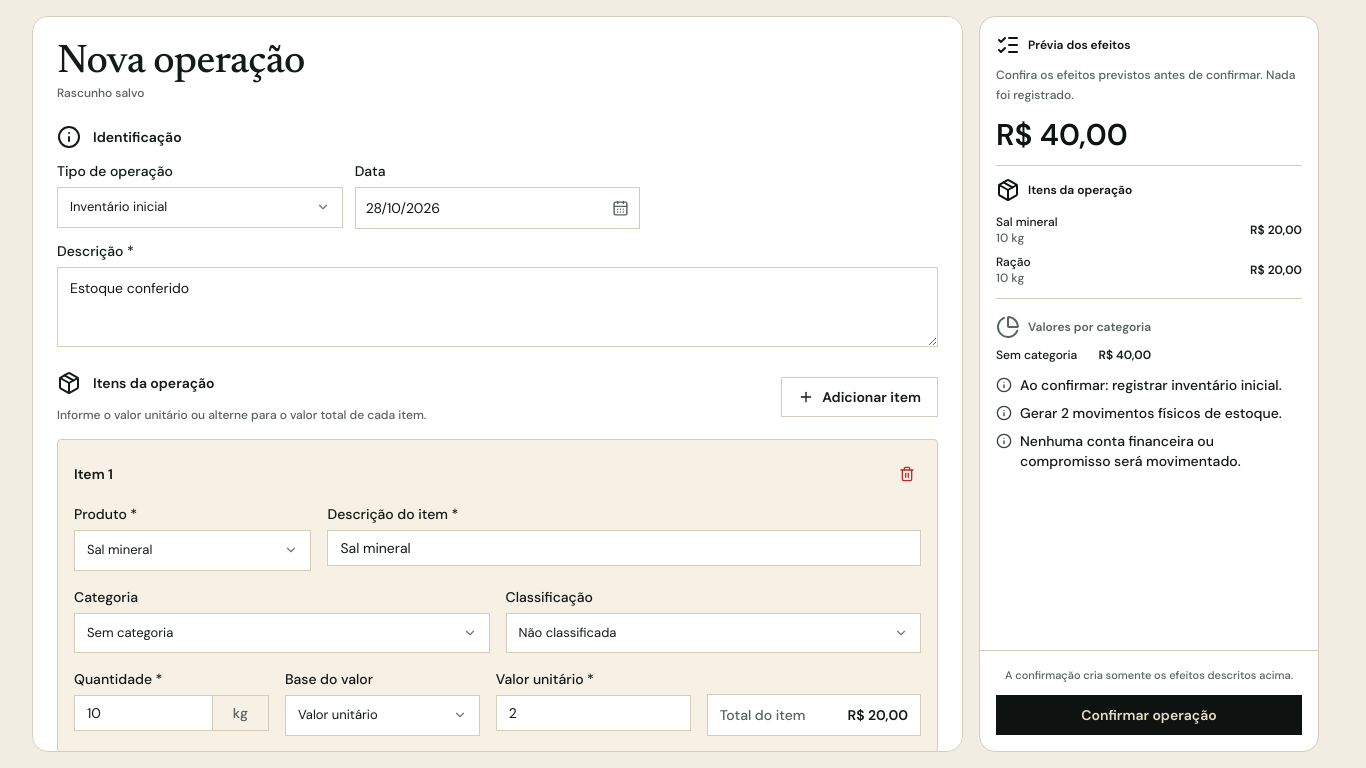
Test: erros de distribuição dos lotes › remover o item anterior limpa o erro da API cujo índice deixou de representar a distribuição
Click the button "Confirmar operação" at x=1149, y=715, box [996,695,1302,735]
(page scrolled)
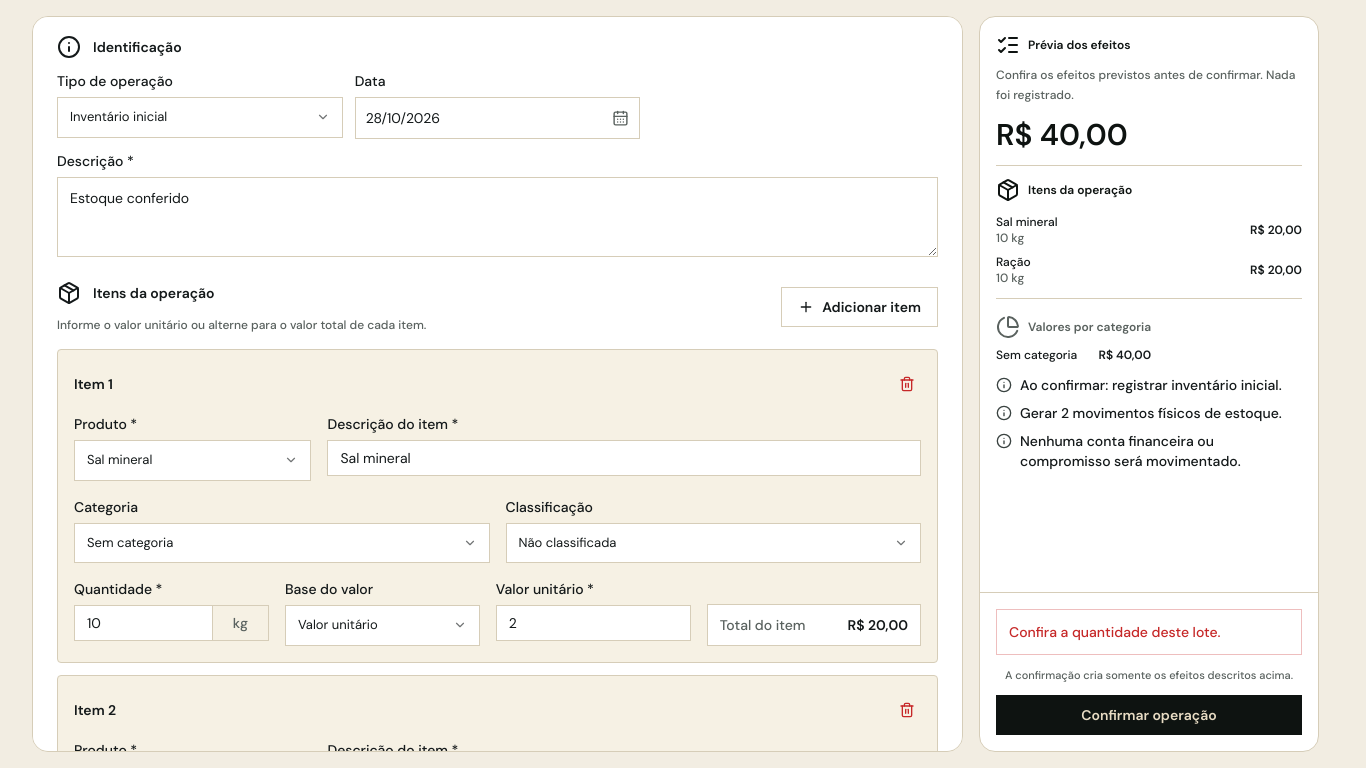
Click the button named "Remover item 1" at x=907, y=384, box [893,366,921,402]
(page scrolled)
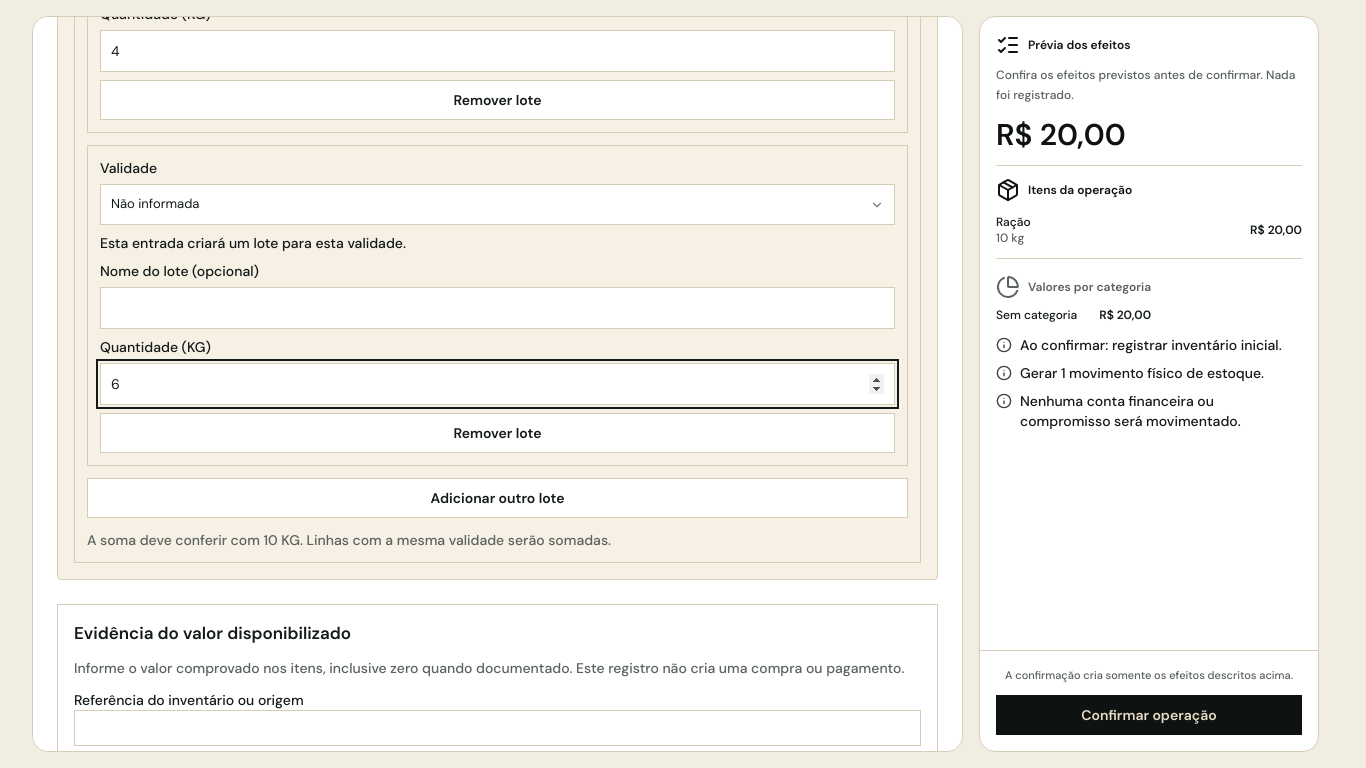
Expected: the text "Confira a quantidade deste lote." is not shown
Expected: the number field named "Quantidade do lote 1" holds "4", [100,30,895,72]
Expected: the number field named "Quantidade do lote 2" holds "6", [100,363,895,405]
